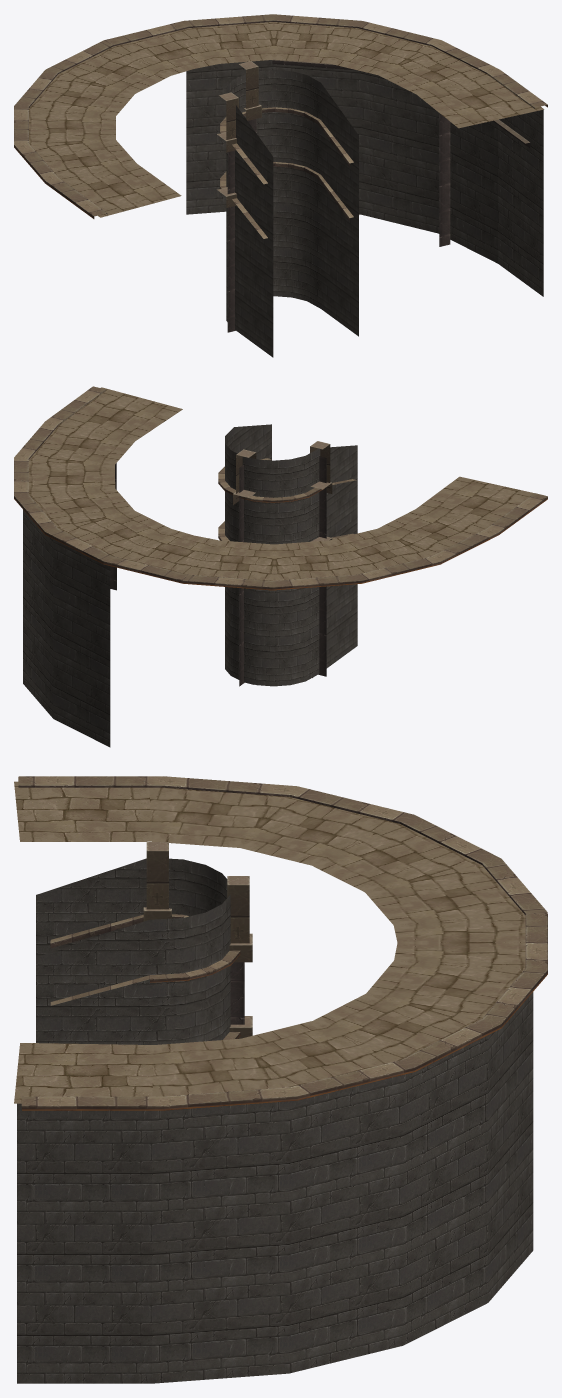
Rendered from terrain_section03_guanka1307.FBX.
The picture shows the model from 3 angles, top to bottom: view 1: azimuth 30°, elevation 25°; view 2: azimuth 150°, elevation 25°; view 3: azimuth 270°, elevation 25°; orthographic projection. The views are drawn at different scales.
Parts seen in each view (by area): view 1: terrain_section03_guanka1307; view 2: terrain_section03_guanka1307; view 3: terrain_section03_guanka1307.
Boxes of the visible parts, x1,y1,x2,y2 form: terrain_section03_guanka1307: (14, 14, 547, 357); terrain_section03_guanka1307: (14, 386, 547, 747); terrain_section03_guanka1307: (14, 776, 547, 1383).
Size of the model in its own units: 63.2 by 30.96 by 43.25.
